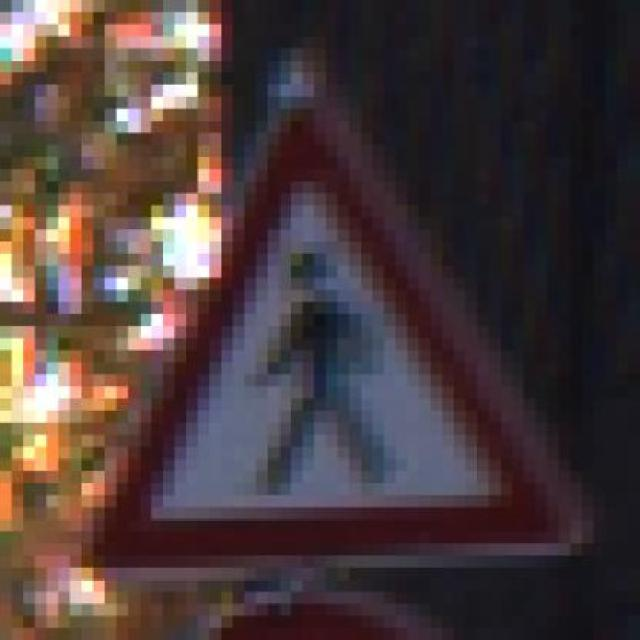Pedestrian Crossing: (89, 77, 588, 597)
